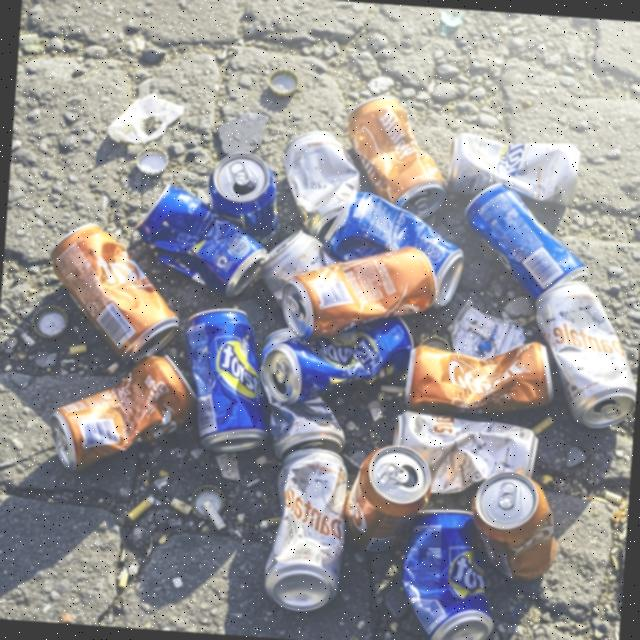aluminum: (43, 346, 201, 486), (41, 217, 187, 367), (276, 234, 442, 348), (456, 178, 600, 309), (257, 442, 360, 616), (526, 276, 640, 433), (132, 178, 275, 300), (388, 503, 502, 640), (338, 91, 454, 220), (398, 330, 558, 422), (180, 300, 268, 458), (442, 128, 584, 212), (468, 466, 562, 584), (340, 438, 436, 550), (276, 124, 366, 240), (206, 148, 276, 235)
